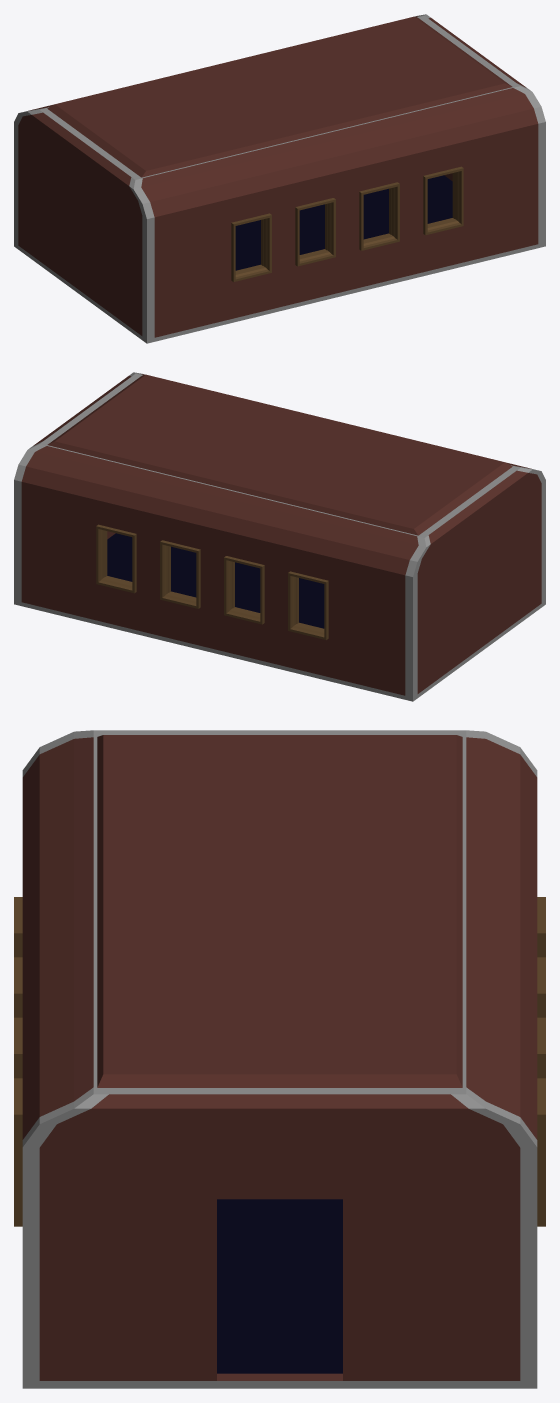
Rendered from train.fbx.
3 views of the same model, one above another, from view 1: azimuth 30°, elevation 25°; view 2: azimuth 150°, elevation 25°; view 3: azimuth 270°, elevation 25° (orthographic). The views are drawn at different scales.
Visible parts, largest first — view 1: Plane.001; view 2: Plane.001; view 3: Plane.001.
Boxes of the visible parts, left/top/right/bottom form: Plane.001: left=14, top=14, right=545, bottom=343; Plane.001: left=14, top=372, right=545, bottom=701; Plane.001: left=14, top=730, right=545, bottom=1388.
Size of the model in its own units: 1040 by 380 by 620.
